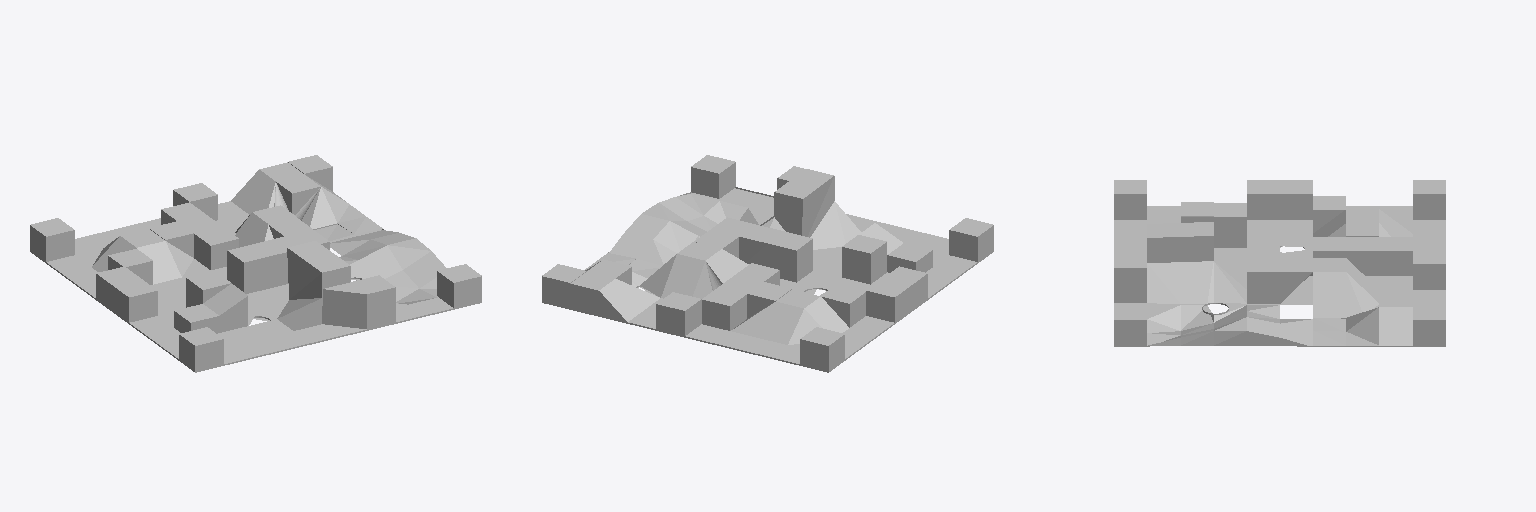
The model's file is Nivel 5.obj.
3 renders of one model, left to right at view 1: azimuth 30°, elevation 25°; view 2: azimuth 150°, elevation 25°; view 3: azimuth 270°, elevation 25°, orthographic.
Visible parts, largest first — view 1: Cube; view 2: Cube; view 3: Cube.
Part boxes in pixels (left/top/right/bottom): Cube: left=30, top=155, right=481, bottom=372; Cube: left=542, top=155, right=993, bottom=372; Cube: left=1114, top=180, right=1445, bottom=346.
Size of the model in its own units: 20 by 4.41 by 20.